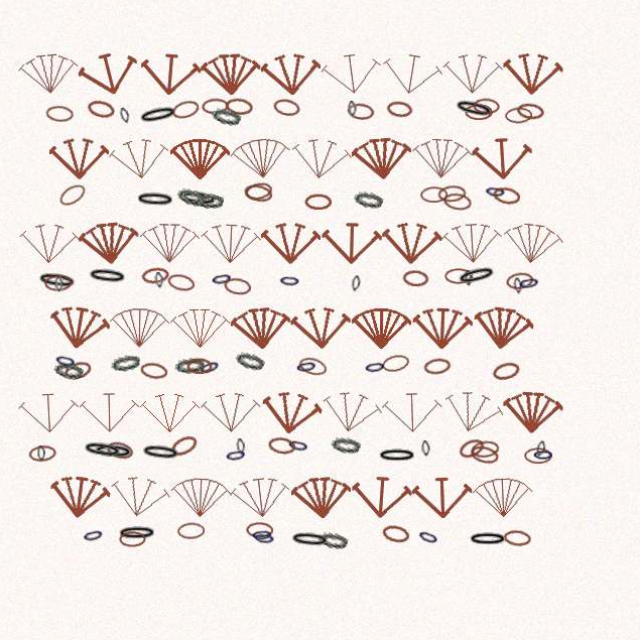chain: (453, 264, 495, 289), (137, 105, 179, 129), (450, 99, 492, 123), (57, 182, 89, 210), (37, 271, 78, 292), (82, 439, 123, 460), (177, 190, 218, 210), (87, 267, 128, 287), (140, 442, 181, 462), (168, 432, 199, 458), (288, 529, 329, 548), (454, 435, 484, 460), (93, 442, 134, 460), (175, 187, 207, 210), (135, 192, 175, 210), (296, 355, 327, 378), (233, 350, 265, 372), (170, 100, 200, 123), (63, 359, 93, 382), (110, 352, 141, 374), (466, 443, 497, 465), (86, 100, 116, 122), (488, 360, 518, 382), (105, 439, 135, 461), (210, 108, 241, 129), (375, 447, 415, 463), (117, 524, 157, 540), (465, 530, 505, 546), (242, 184, 272, 205), (351, 191, 382, 211), (316, 529, 347, 549), (271, 99, 300, 120), (243, 182, 272, 203), (166, 273, 195, 294), (379, 353, 408, 374), (379, 522, 408, 543), (440, 193, 470, 213), (489, 187, 518, 207), (222, 277, 251, 297), (139, 361, 168, 381), (266, 435, 295, 455), (196, 356, 222, 378), (413, 525, 439, 547), (54, 361, 84, 380), (174, 356, 204, 375), (329, 435, 359, 454), (502, 272, 531, 291), (468, 439, 497, 458), (224, 99, 252, 118), (345, 104, 373, 123), (513, 104, 541, 123), (141, 267, 169, 286), (421, 357, 449, 376), (435, 186, 464, 204), (384, 102, 411, 121), (46, 107, 74, 125), (29, 444, 57, 462), (500, 528, 528, 546), (81, 524, 106, 544), (400, 270, 427, 288), (54, 351, 78, 371), (285, 435, 309, 455), (194, 194, 223, 210), (201, 100, 228, 117), (470, 100, 497, 117), (502, 109, 529, 126), (45, 275, 72, 292), (177, 521, 204, 538), (209, 270, 233, 289), (514, 274, 538, 293), (293, 357, 317, 376), (223, 445, 247, 464), (462, 106, 490, 122), (521, 447, 549, 463), (303, 195, 330, 211), (418, 188, 445, 204), (442, 269, 469, 285), (361, 358, 385, 376), (119, 530, 146, 546), (245, 521, 272, 537), (186, 358, 212, 374), (481, 184, 504, 202), (252, 528, 275, 546), (277, 273, 300, 290), (250, 525, 272, 542), (529, 446, 551, 462), (119, 109, 131, 126), (532, 440, 543, 457), (349, 276, 359, 293), (510, 278, 520, 295), (154, 273, 164, 289), (235, 438, 245, 454), (346, 103, 355, 119), (55, 277, 64, 293), (419, 440, 428, 456), (462, 271, 470, 287), (38, 445, 46, 461)
fan: (436, 384, 504, 441), (76, 48, 143, 105), (47, 302, 112, 355), (317, 386, 382, 439), (107, 470, 172, 523), (377, 51, 442, 103), (468, 303, 532, 355), (258, 387, 322, 439), (318, 51, 382, 102), (228, 135, 292, 186), (48, 471, 112, 522), (108, 136, 171, 186), (288, 136, 351, 186), (498, 220, 561, 270), (228, 472, 291, 522), (18, 52, 81, 101), (78, 220, 141, 269), (349, 136, 411, 185), (139, 53, 201, 101), (259, 53, 321, 101), (229, 305, 291, 353), (289, 473, 351, 521), (499, 53, 560, 100), (409, 137, 470, 184), (469, 137, 530, 184), (379, 221, 440, 268), (439, 221, 500, 268), (289, 305, 350, 352), (499, 389, 560, 436), (349, 473, 410, 520), (19, 390, 80, 436), (200, 54, 260, 100), (20, 222, 80, 268), (200, 222, 260, 268), (410, 306, 470, 352), (170, 474, 230, 520), (410, 474, 470, 520), (470, 474, 530, 520), (440, 54, 500, 99), (320, 222, 380, 267), (200, 390, 260, 435), (380, 390, 440, 435), (50, 138, 109, 183), (140, 222, 199, 267), (260, 222, 319, 267), (110, 306, 169, 351), (80, 390, 139, 435), (170, 139, 229, 183), (170, 307, 229, 351), (350, 307, 409, 351), (140, 391, 199, 435)
